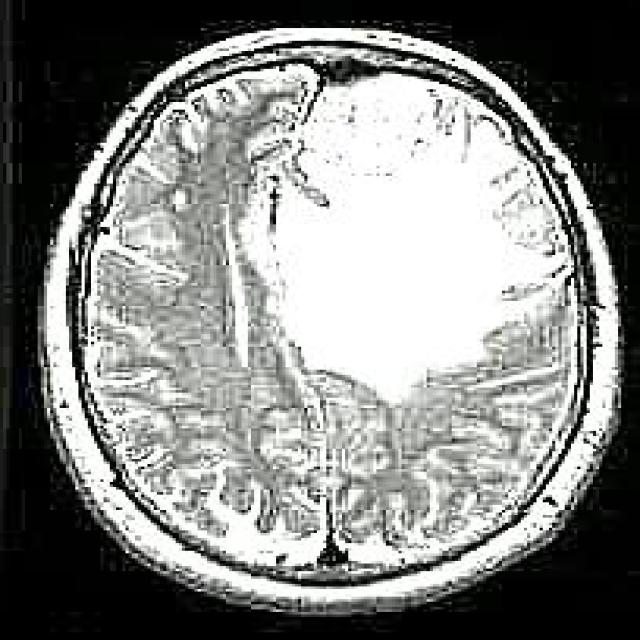Tumor-Cell: (247, 89, 537, 383)
